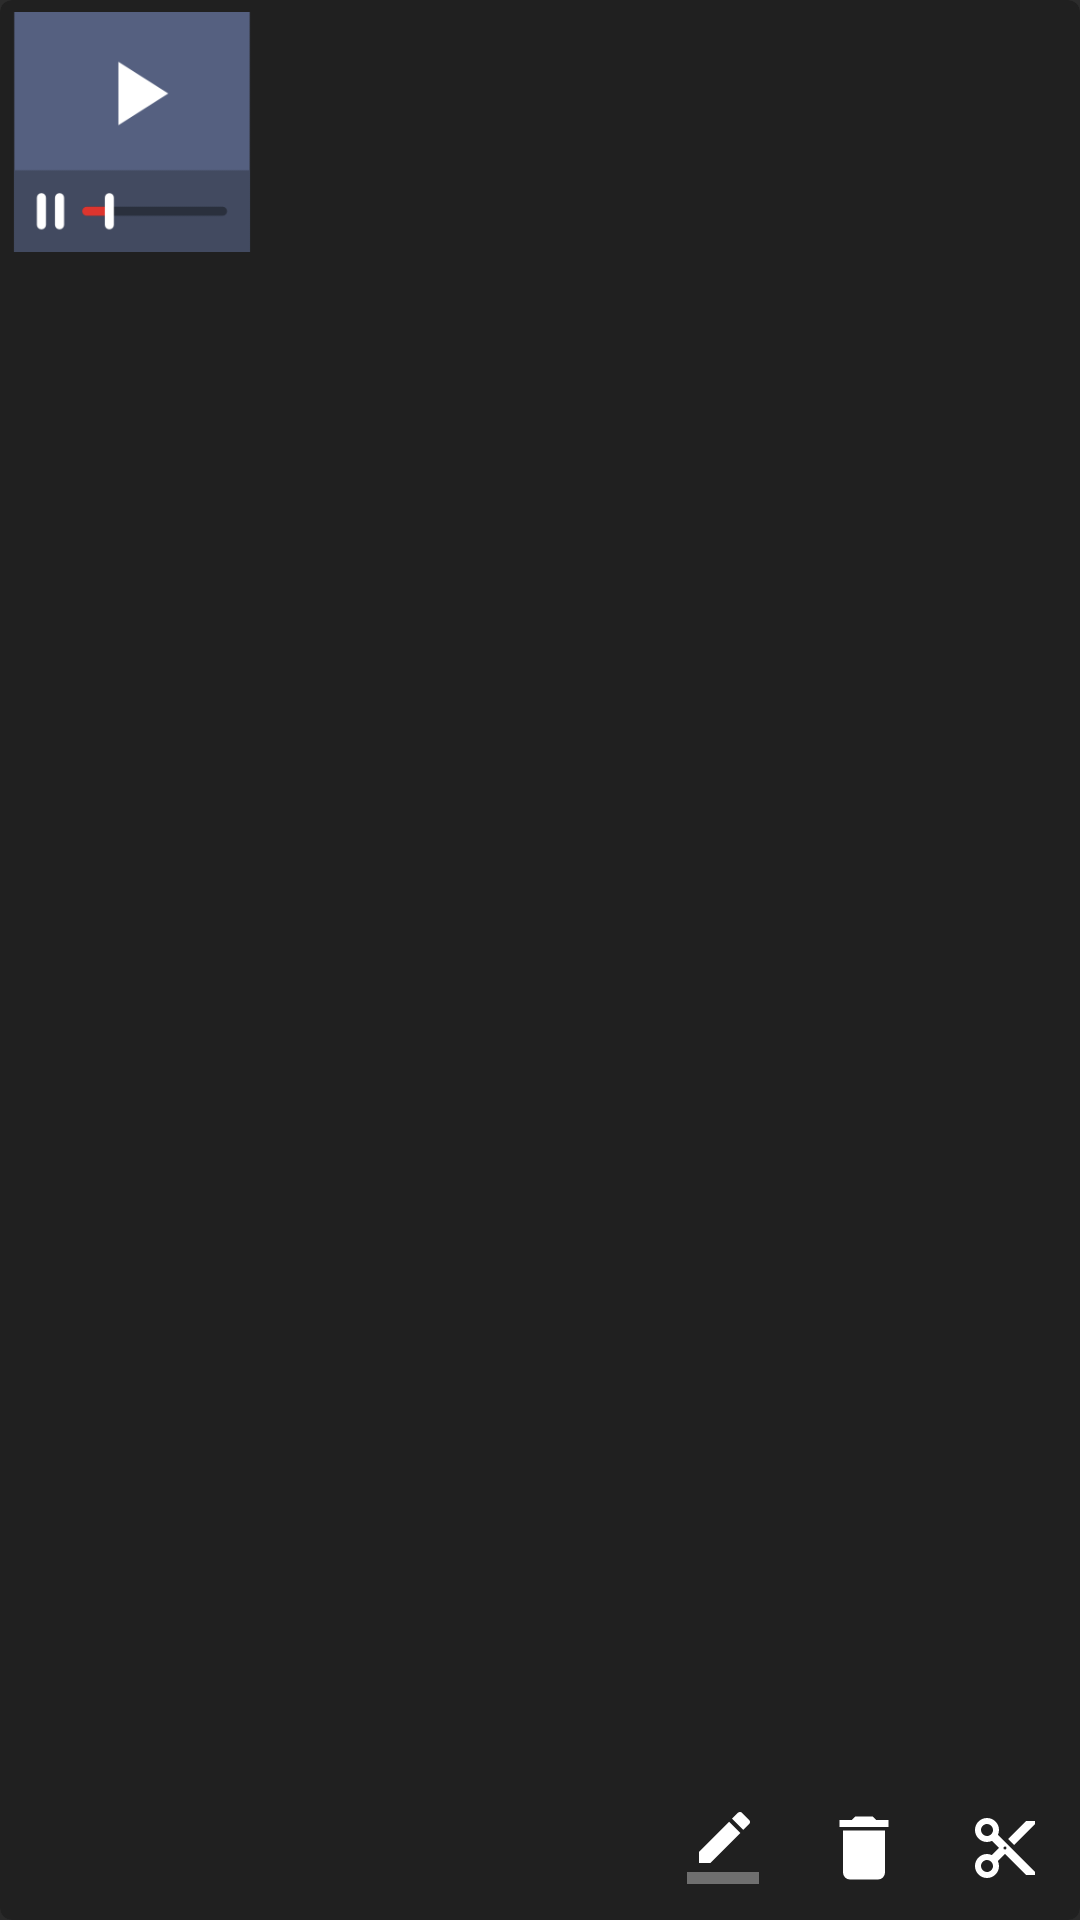

Named icons in this screenshot (1080px×1920px) and their bounding boxes, (x1, y1, x2, y2):
delete project: (839, 1816, 889, 1880)
rename project: (687, 1812, 759, 1884)
video: (14, 12, 250, 252)
